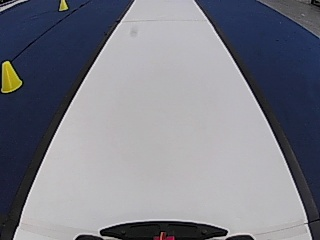cone: (1, 61, 22, 93), (58, 0, 68, 11)
